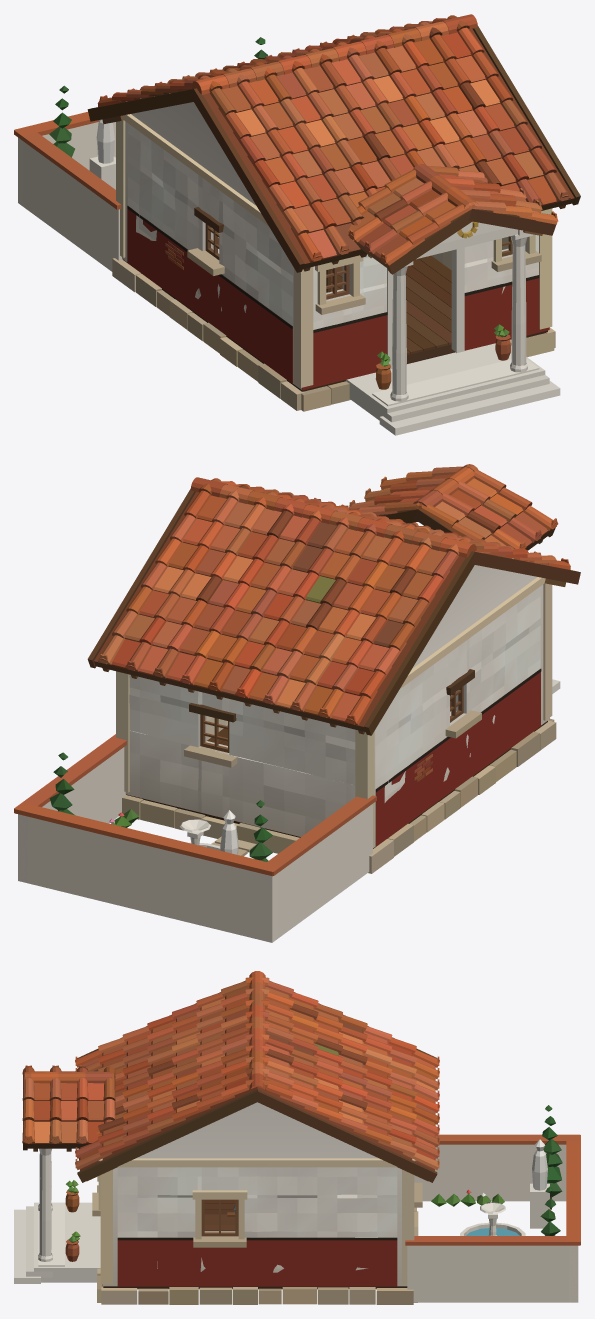
Rendered from patrician_0_1.glb.
The picture shows the model from 3 angles, top to bottom: view 1: azimuth 30°, elevation 25°; view 2: azimuth 150°, elevation 25°; view 3: azimuth 270°, elevation 25°; orthographic projection. The views are drawn at different scales.
Visible parts, largest first — view 1: House, Walls, Rooms; view 2: House, Walls; view 3: House, Walls, Rooms.
Boxes of the visible parts, box(x1,y1,x2,y2) form: House: box(14, 14, 580, 435); Walls: box(122, 102, 538, 389); Rooms: box(218, 233, 508, 355); House: box(14, 464, 580, 942); Walls: box(125, 565, 549, 848); House: box(14, 971, 580, 1304); Walls: box(102, 1102, 407, 1286); Rooms: box(204, 1199, 235, 1231).
Size of the model in its own units: 4.09 by 3.66 by 8.43.
Materials: 3 (3 with a texture image).
